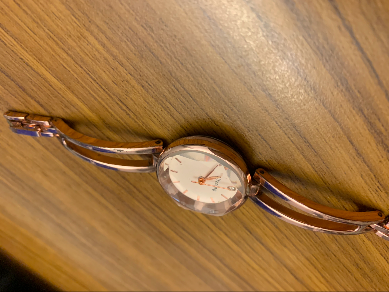object_name: (88, 137, 332, 227)
